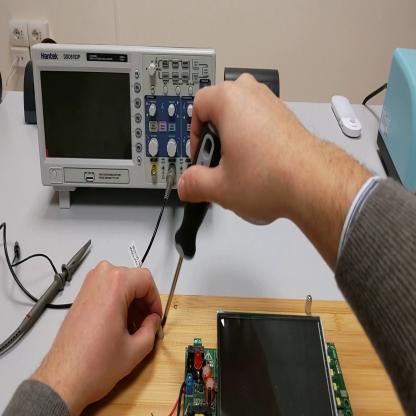hand: (181, 72, 304, 229), (53, 259, 166, 402)
low voltage board: (168, 308, 352, 412)
oscilloscope: (31, 40, 219, 210)
oscilloscope probe tip: (3, 239, 93, 354)
screwdriver-: (162, 120, 222, 323)
socket: (25, 62, 39, 123), (1, 74, 6, 105)
welder station: (378, 49, 416, 191)
working area: (81, 295, 406, 416)
